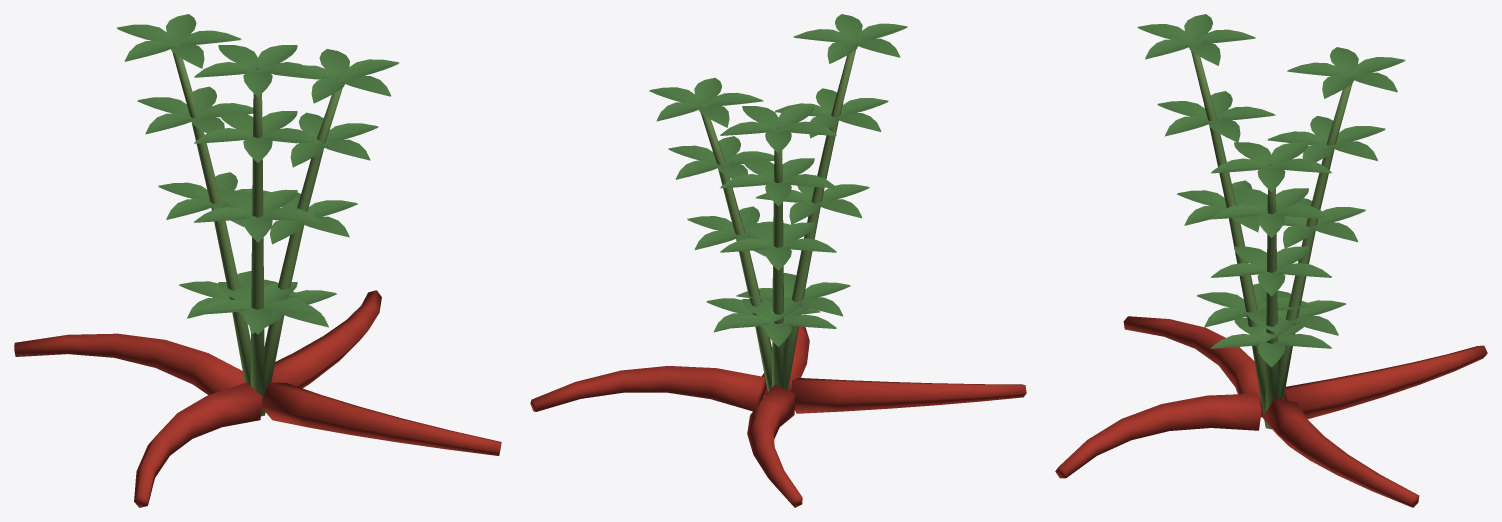
Rendered from ing_madder.glb.
3 views of the same model, side by side, from view 1: azimuth 30°, elevation 25°; view 2: azimuth 150°, elevation 25°; view 3: azimuth 270°, elevation 25° (orthographic). The views are drawn at different scales.
Parts seen in each view (by area): view 1: ing_madder; view 2: ing_madder; view 3: ing_madder.
Part boxes in pixels (left/top/right/bottom): ing_madder: left=14, top=14, right=501, bottom=507; ing_madder: left=530, top=14, right=1026, bottom=507; ing_madder: left=1055, top=14, right=1487, bottom=507.
Size of what is drawn, in the model's own units: 0.3802 by 0.3597 by 0.3802.
